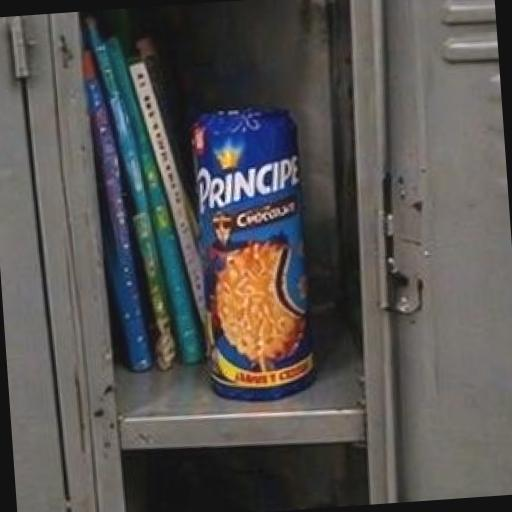prince: (104, 34, 434, 474)
